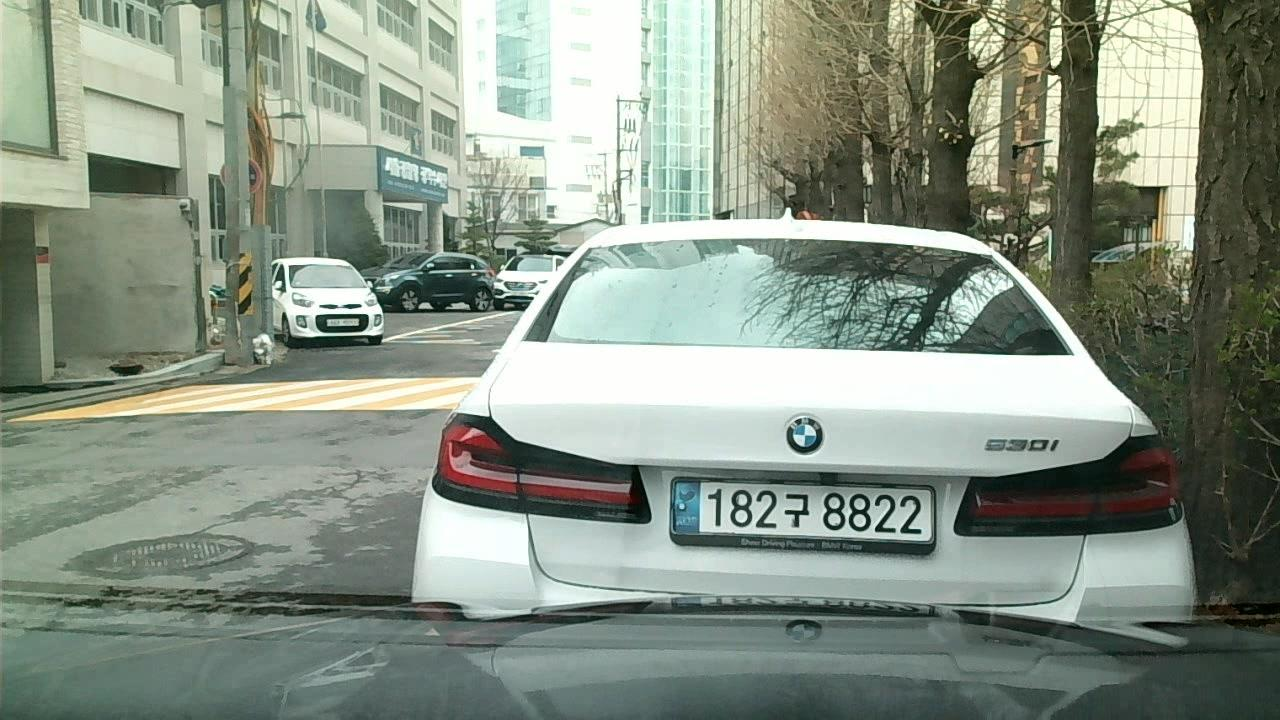banner: (332, 466, 370, 502), (195, 515, 245, 536), (253, 332, 275, 366)
